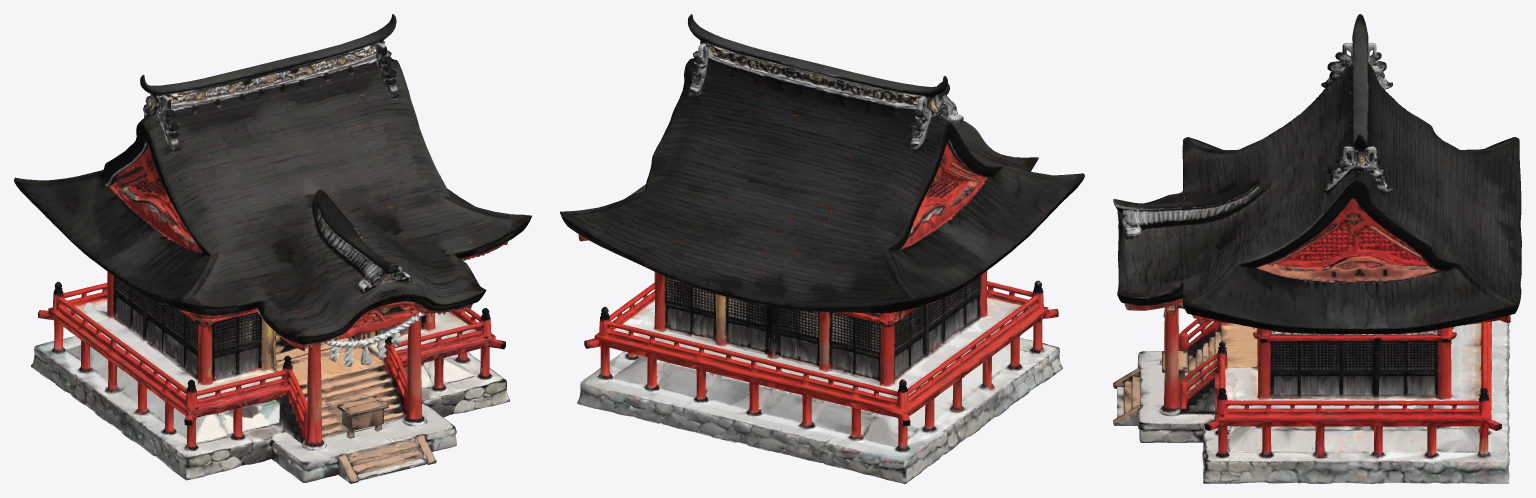
File: shrine_hall.glb
The picture shows the model from 3 angles, left to right: view 1: azimuth 30°, elevation 25°; view 2: azimuth 150°, elevation 25°; view 3: azimuth 270°, elevation 25°; orthographic projection. The views are drawn at different scales.
Visible parts, largest first — view 1: Mesh_0; view 2: Mesh_0; view 3: Mesh_0.
Boxes of the visible parts, bbox=[...] form: Mesh_0: bbox=[14, 14, 531, 483]; Mesh_0: bbox=[560, 14, 1084, 483]; Mesh_0: bbox=[1113, 14, 1521, 483].
Size of the model in its own units: 6.53 by 6 by 6.68.
Materials: 1 (1 with a texture image).
